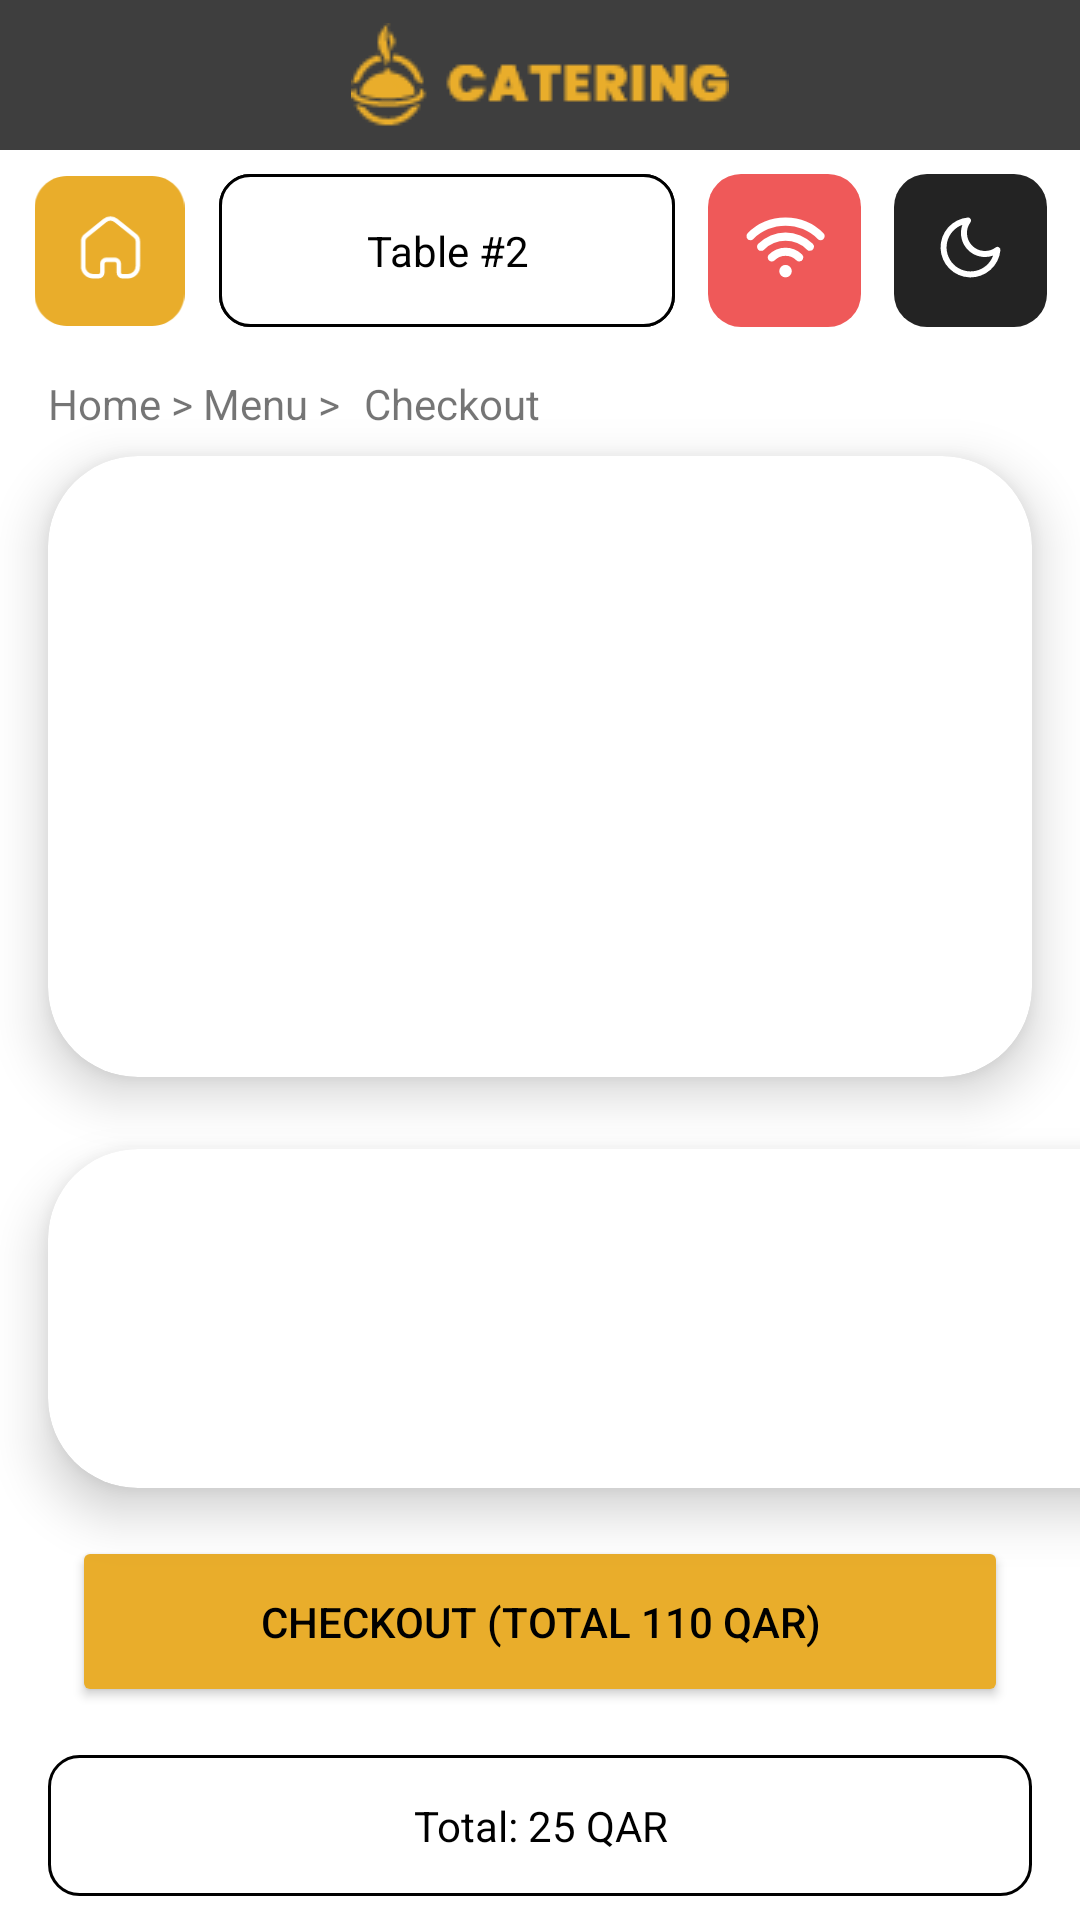

Screen size 1080px×1920px. Icon name, then its box in pixels as (x1, y1, x2, y2):
homw: (35, 176, 185, 326)
wifi: (708, 174, 861, 327)
